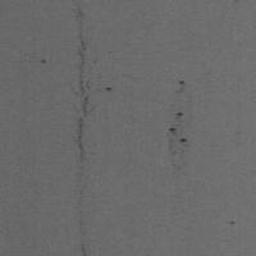Inclusion: (74, 0, 88, 153), (168, 138, 176, 156)
